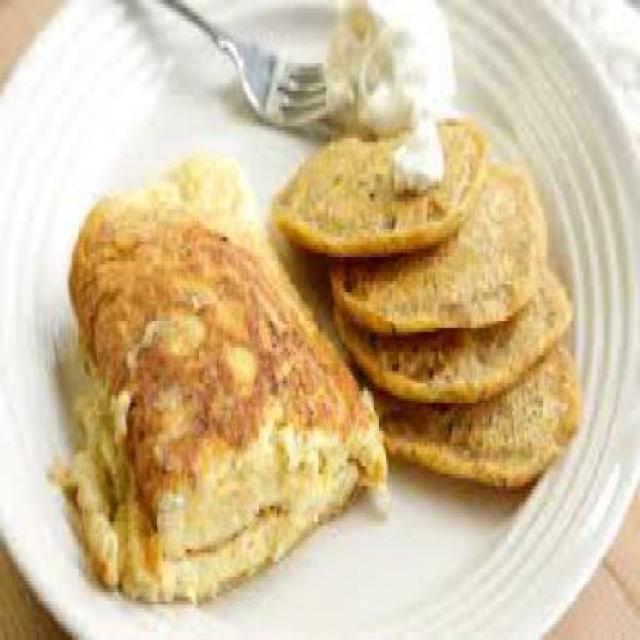omelette: (64, 146, 387, 600)
pancakes: (288, 110, 586, 502)
